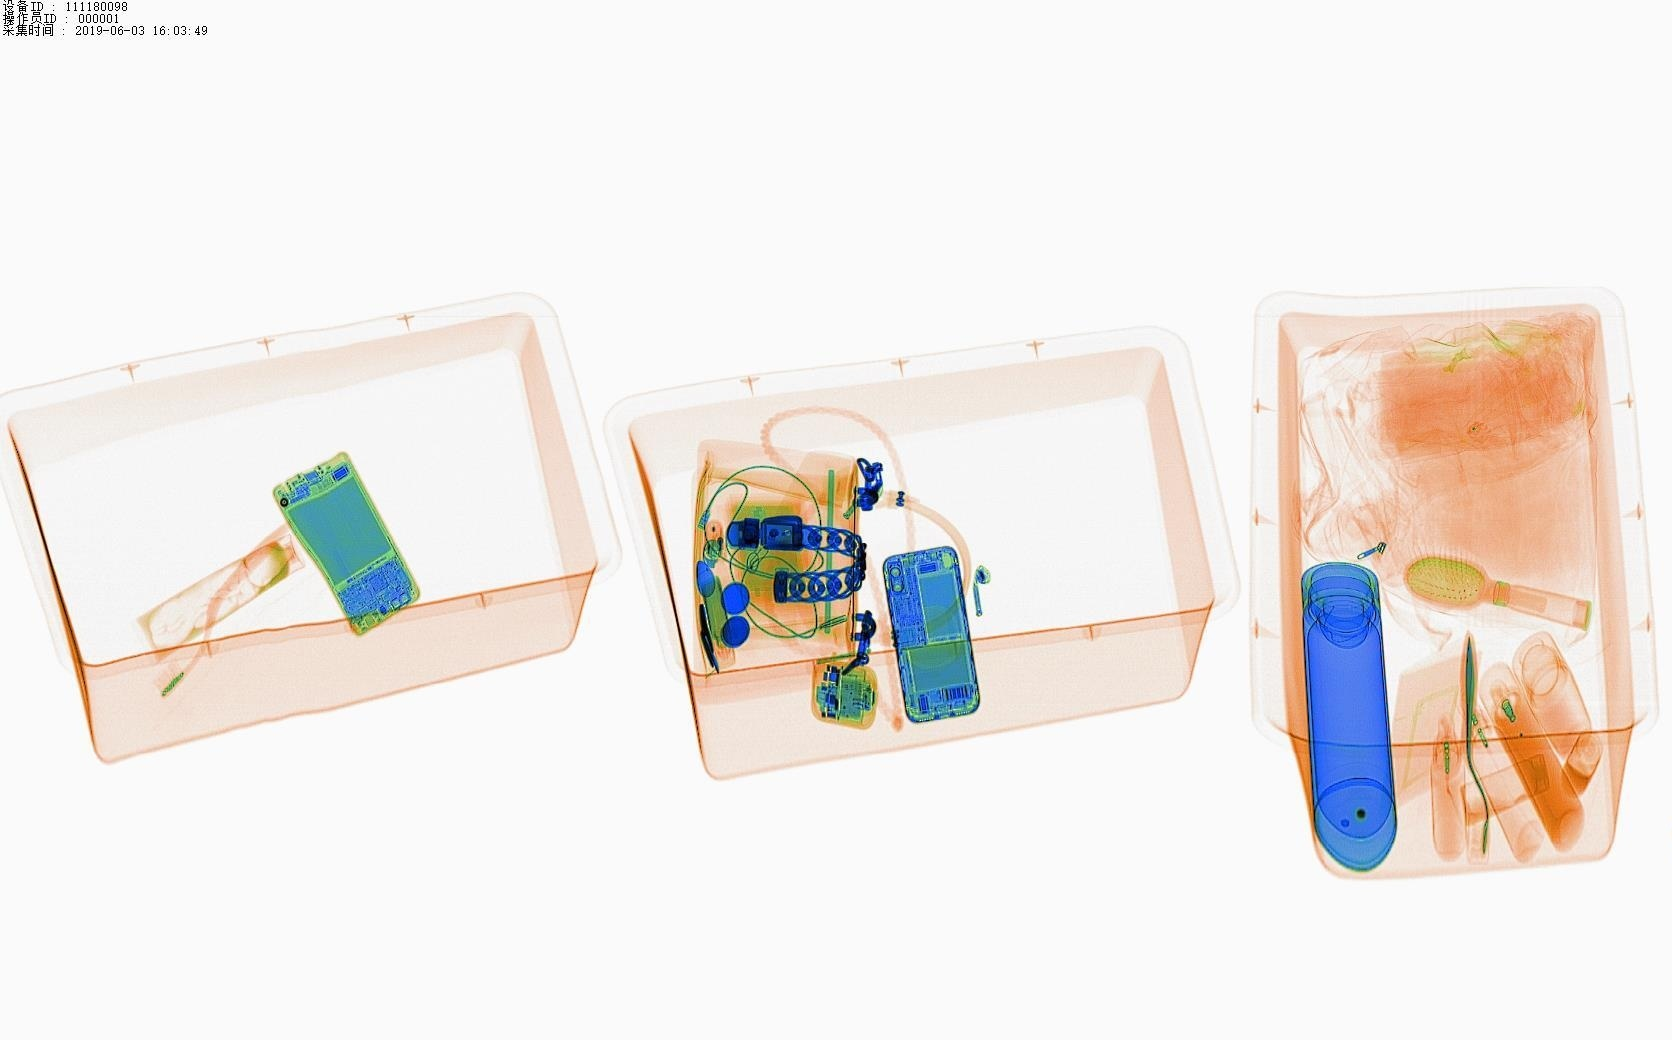NonmetallicFire: (693, 508, 743, 581)
